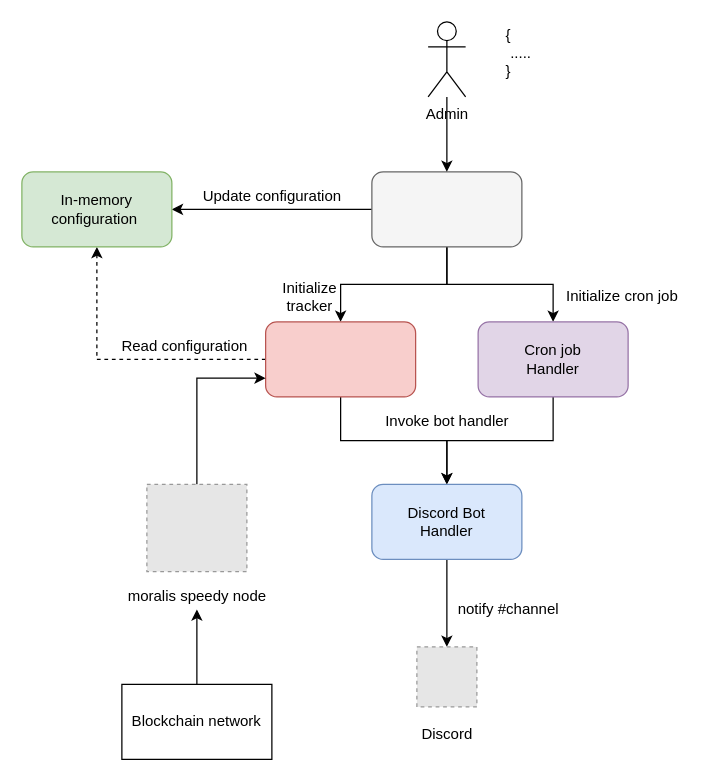
This 706x781 diagram has some shape labels left out. Grey dashed boxes stand in for pictures. The shapes that lost their labels are listed below. From the top down, each one's box as (x1, y1, x2, y2) in pixels, then its label:
(371, 171, 522, 247): API
(264, 321, 416, 397): Transaction tracker
